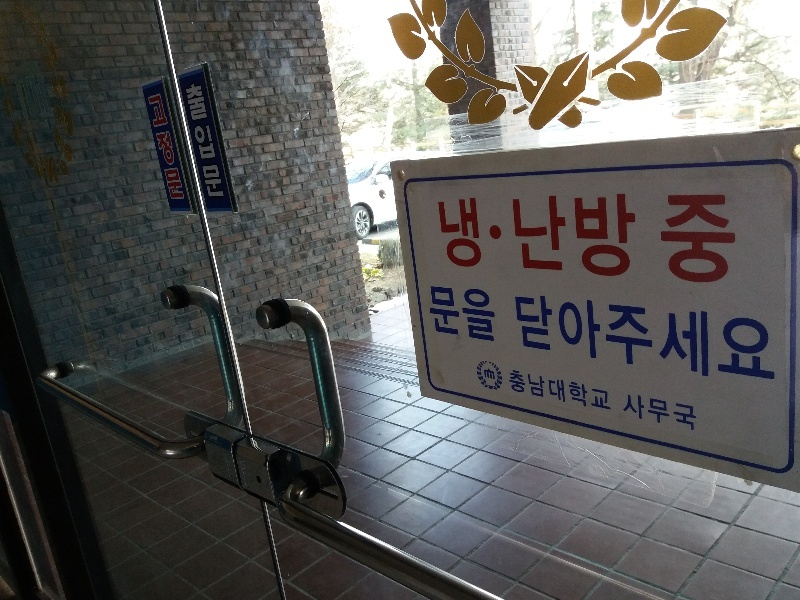text: (209, 79, 224, 199), (161, 93, 176, 202), (513, 290, 528, 388), (529, 290, 544, 388), (545, 290, 560, 388), (561, 290, 576, 388), (577, 290, 592, 388), (593, 290, 608, 388), (609, 290, 624, 388), (625, 290, 640, 388), (641, 290, 656, 388), (657, 290, 672, 388), (673, 290, 688, 388), (689, 290, 704, 388), (705, 290, 720, 388), (721, 290, 736, 388), (737, 290, 752, 388), (753, 290, 768, 388), (657, 192, 672, 289), (673, 192, 688, 289), (689, 192, 704, 289), (705, 192, 720, 289), (721, 192, 736, 289), (449, 191, 464, 279), (465, 191, 480, 279), (481, 191, 496, 279), (497, 191, 512, 279), (513, 191, 528, 279), (529, 191, 544, 279), (545, 191, 560, 279), (561, 191, 576, 279), (577, 191, 592, 279), (593, 191, 608, 279), (609, 191, 624, 279), (435, 191, 448, 279), (625, 191, 638, 279), (177, 93, 187, 202), (433, 283, 448, 347), (449, 283, 464, 347), (465, 283, 480, 347), (481, 283, 496, 347), (201, 79, 208, 199), (769, 290, 777, 388), (513, 369, 528, 411), (529, 369, 544, 411), (545, 369, 560, 411), (561, 369, 576, 411), (577, 369, 592, 411), (593, 369, 608, 411), (641, 393, 656, 432), (657, 393, 672, 432), (673, 393, 688, 432), (627, 393, 640, 432), (425, 283, 432, 347), (689, 393, 697, 432), (497, 283, 500, 347), (508, 369, 512, 411), (225, 79, 226, 199), (737, 192, 738, 289), (609, 369, 611, 411)
